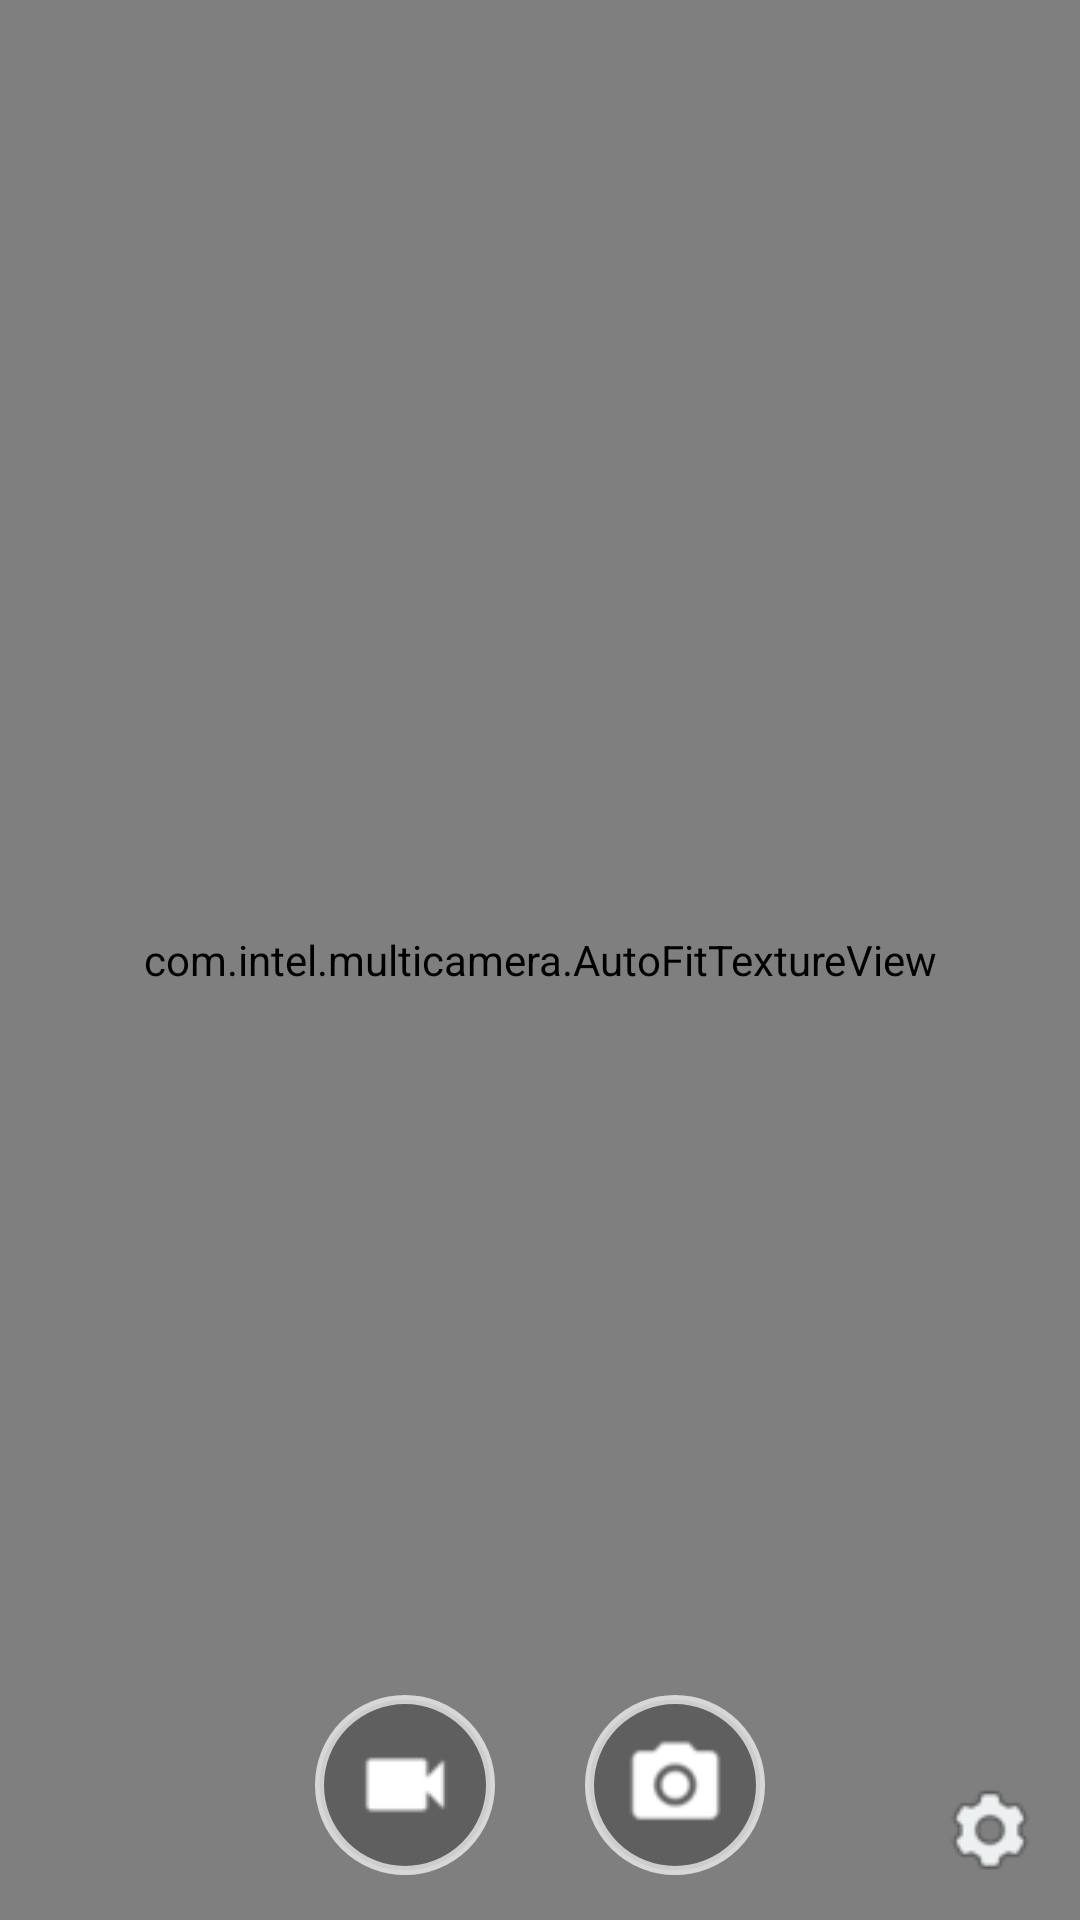

Icons on this 1080×1920 Android screen, each with its box as (x1, y1, x2, y2):
capture camera: (585, 1695, 765, 1875)
capture video: (315, 1695, 495, 1875)
settings: (955, 1791, 1025, 1869)
